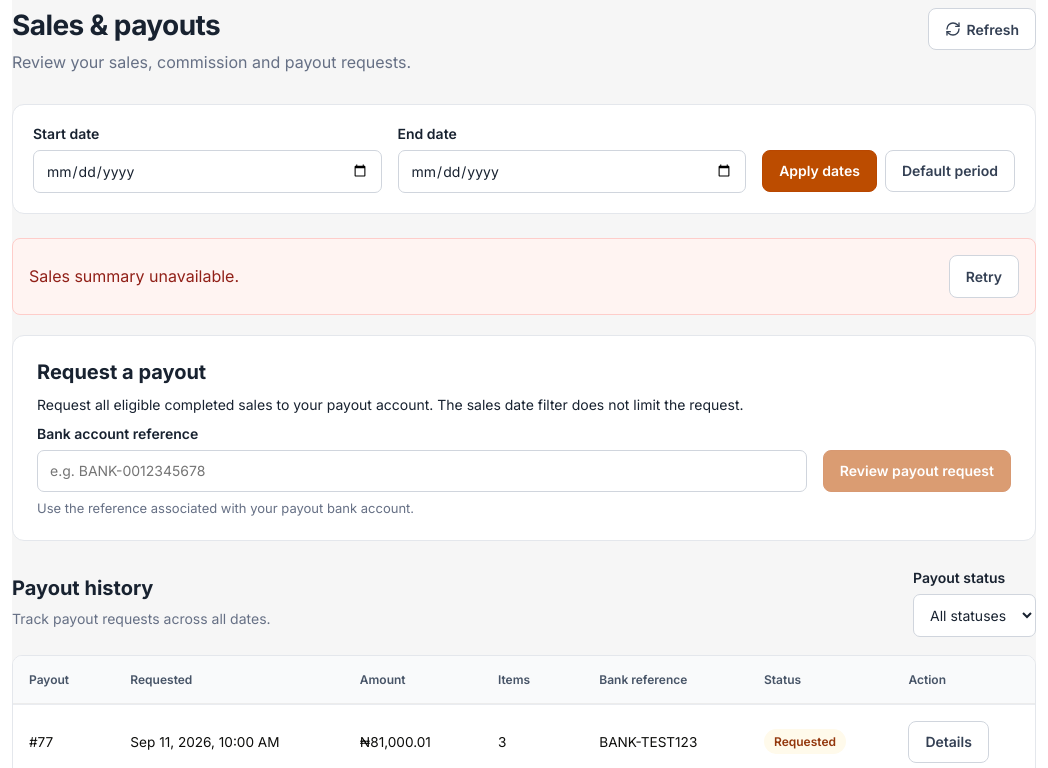
Test case: keeps history visible when sales fail, and retries only sales
Expected: the message shows "Sales summary unavailable.", [29, 266, 239, 286]
Click the button "Retry" at (984, 276), box [949, 255, 1019, 298]
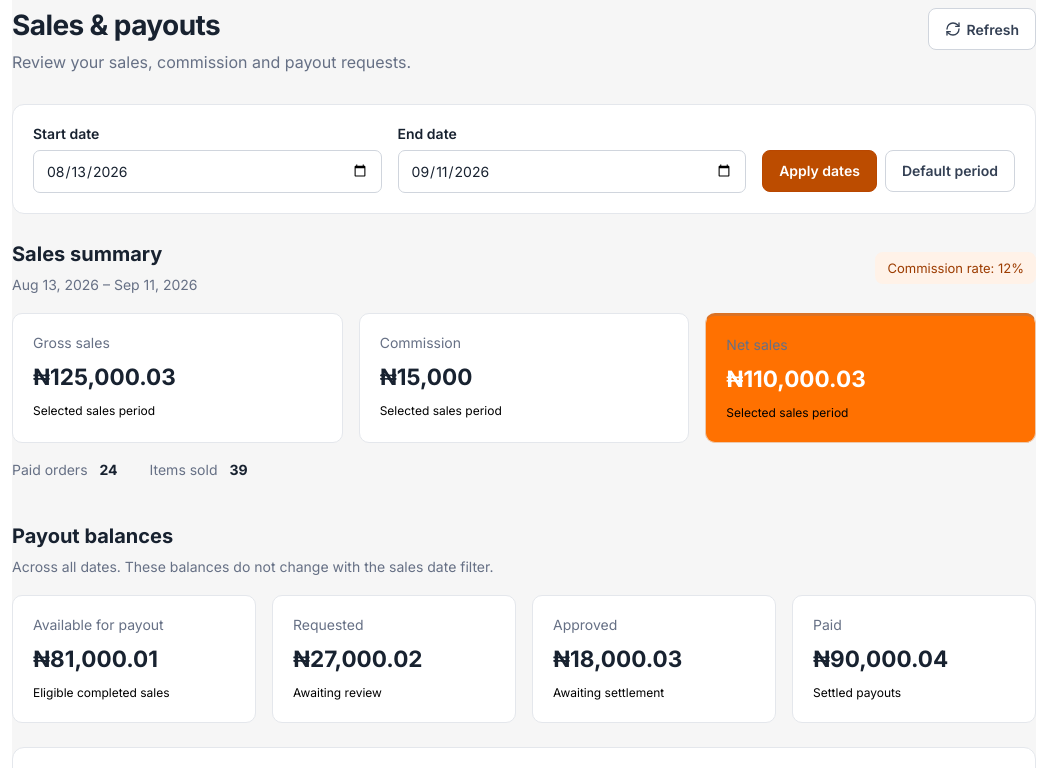
Result: the element "Sales summary" is shown at [12, 242, 1036, 496]
